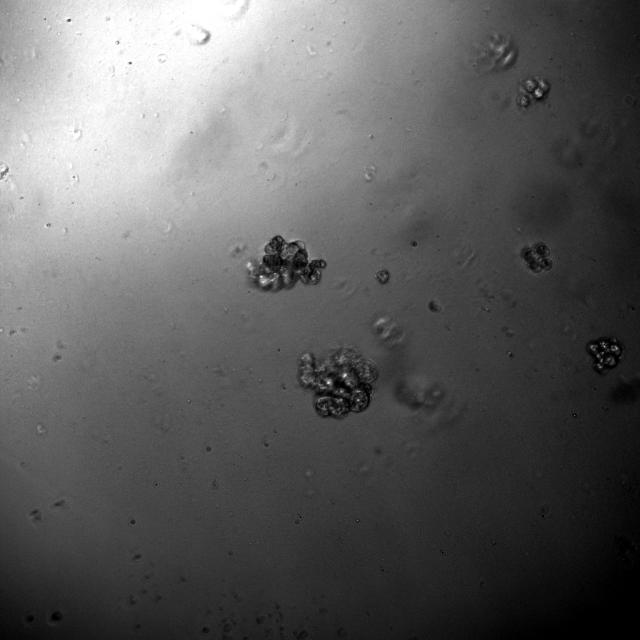organoid: (299, 348, 378, 418), (248, 235, 326, 290), (586, 337, 623, 374), (521, 242, 554, 274), (517, 78, 550, 108), (375, 269, 389, 284), (0, 162, 9, 180), (429, 301, 439, 312)
